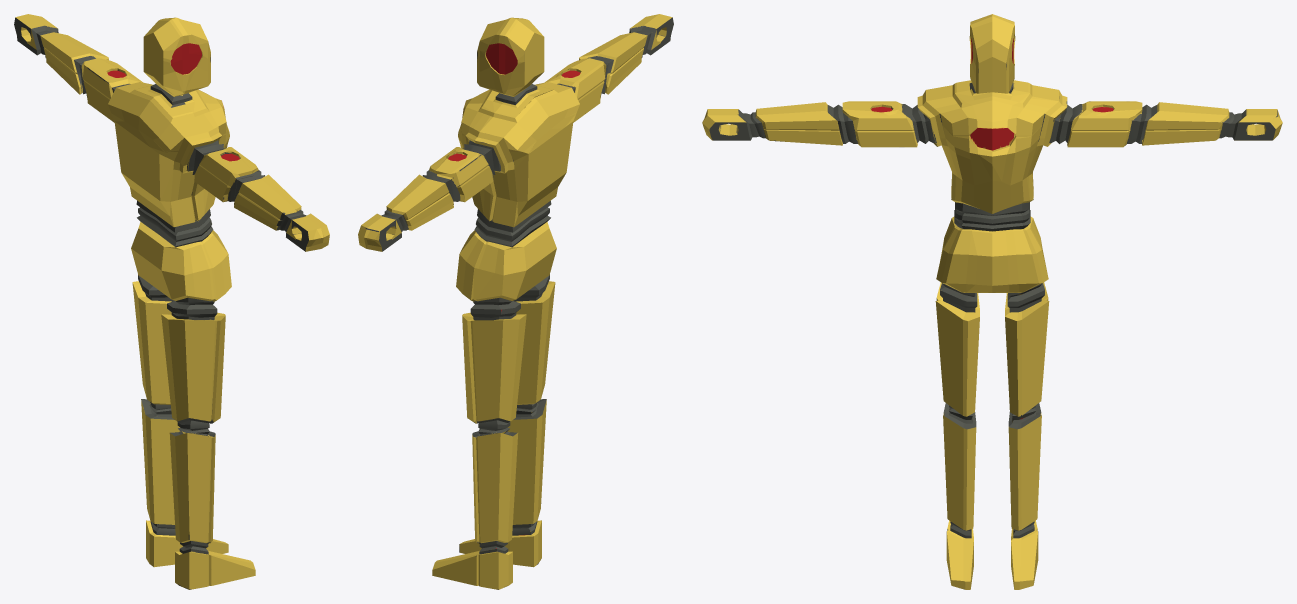
The model's file is Personaje1.fbx.
3 views of the same model, side by side, from view 1: azimuth 30°, elevation 25°; view 2: azimuth 150°, elevation 25°; view 3: azimuth 270°, elevation 25° (orthographic). The views are drawn at different scales.
Visible parts, largest first — view 1: Cube; view 2: Cube; view 3: Cube.
Part boxes in pixels (x1=…): Cube: x1=14, y1=14, x2=329, y2=589; Cube: x1=358, y1=14, x2=673, y2=589; Cube: x1=702, y1=14, x2=1282, y2=589.
Size of the model in its own units: 80.61 by 419 by 405.
Materials: 1 (1 with a texture image).
